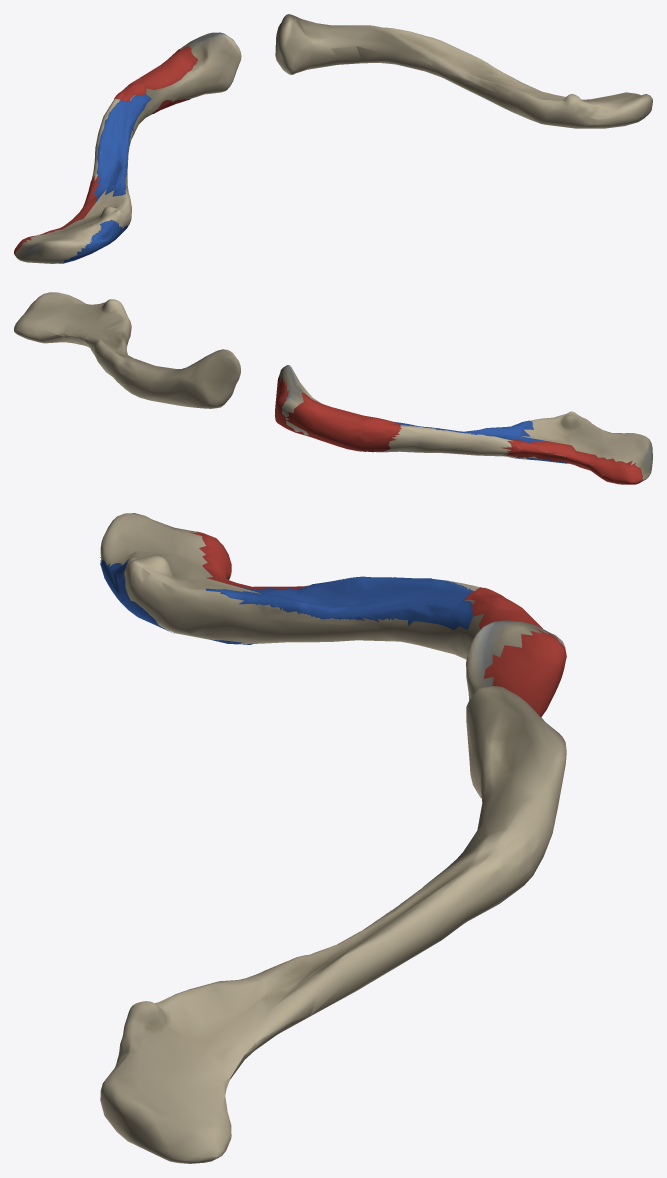
Rendered from clavicula.glb.
3 renders of one model, top to bottom at view 1: azimuth 30°, elevation 25°; view 2: azimuth 150°, elevation 25°; view 3: azimuth 270°, elevation 25°, orthographic. The views are drawn at different scales.
Visible parts, largest first — view 1: FJ3237, FJ3362, insertio__corpus-sulcus-subclavii__FJ1460, origo__extremitas-sternalis__FJ1447, insertio__extremitas-acromialis__FJ1521, origo__extremitas-acromialis__FJ1468, clavicula__extremitas-acromialis; view 2: FJ3237, FJ3362, origo__extremitas-sternalis__FJ1447, origo__extremitas-acromialis__FJ1468, clavicula__corpus-sulcus-subclavii, insertio__corpus-sulcus-subclavii__FJ1460, clavicula__extremitas-sternalis, origo__extremitas-sternalis__FJ1595; view 3: FJ3237, FJ3362, insertio__corpus-sulcus-subclavii__FJ1460, clavicula__corpus-sulcus-subclavii, origo__extremitas-sternalis__FJ1595, clavicula__extremitas-sternalis, origo__extremitas-sternalis__FJ1447, origo__extremitas-acromialis__FJ1468, insertio__extremitas-acromialis__FJ1521.
Boxes of the visible parts, x1,y1,x2,y2 form: FJ3237: [275, 14, 652, 128]; FJ3362: [14, 32, 241, 258]; insertio__corpus-sulcus-subclavii__FJ1460: [93, 94, 151, 202]; origo__extremitas-sternalis__FJ1447: [114, 46, 197, 101]; insertio__extremitas-acromialis__FJ1521: [60, 219, 128, 263]; origo__extremitas-acromialis__FJ1468: [14, 175, 98, 254]; clavicula__extremitas-acromialis: [16, 251, 76, 263]; FJ3237: [14, 292, 240, 408]; FJ3362: [284, 365, 652, 480]; origo__extremitas-sternalis__FJ1447: [286, 392, 402, 452]; origo__extremitas-acromialis__FJ1468: [501, 439, 642, 484]; clavicula__corpus-sulcus-subclavii: [382, 437, 526, 458]; insertio__corpus-sulcus-subclavii__FJ1460: [392, 420, 544, 442]; clavicula__extremitas-sternalis: [279, 367, 358, 450]; origo__extremitas-sternalis__FJ1595: [275, 375, 365, 451]; FJ3237: [100, 686, 566, 1163]; FJ3362: [100, 513, 503, 700]; insertio__corpus-sulcus-subclavii__FJ1460: [205, 576, 473, 629]; clavicula__corpus-sulcus-subclavii: [224, 611, 466, 659]; origo__extremitas-sternalis__FJ1595: [484, 627, 566, 717]; clavicula__extremitas-sternalis: [472, 620, 565, 693]; origo__extremitas-sternalis__FJ1447: [464, 587, 553, 634]; origo__extremitas-acromialis__FJ1468: [189, 531, 306, 590]; insertio__extremitas-acromialis__FJ1521: [100, 557, 253, 644].
Size of the model in its own units: 289 by 46.97 by 92.78.
